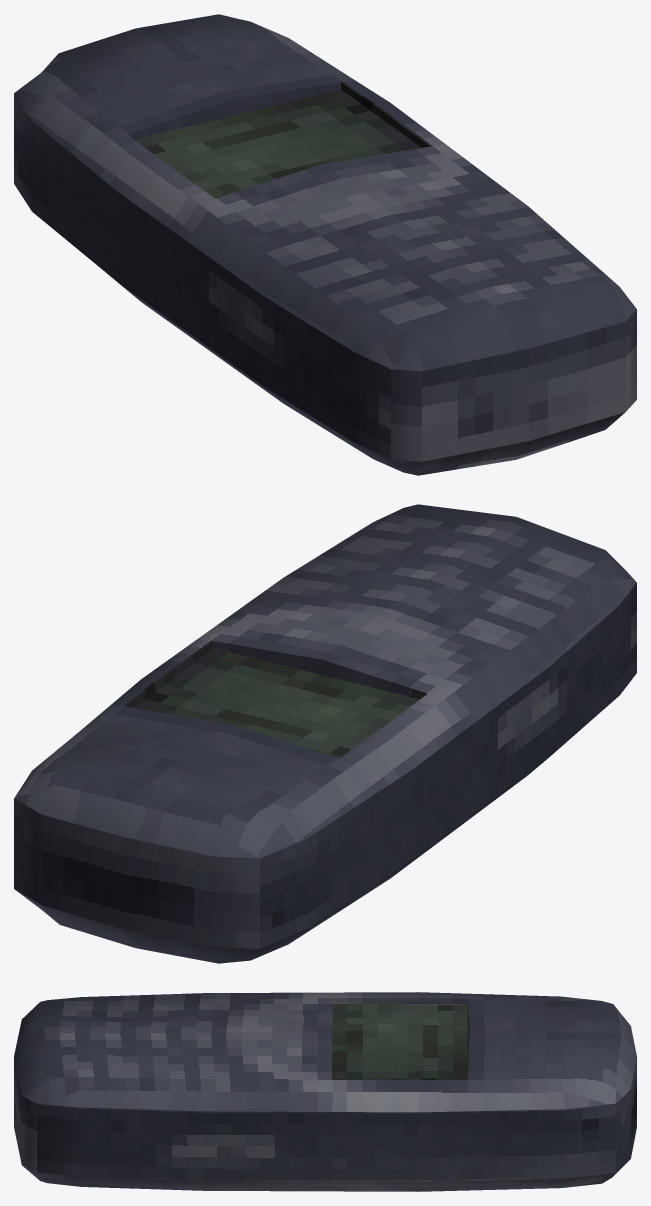
The model's file is cell_phone_2.glb.
3 renders of one model, top to bottom at view 1: azimuth 30°, elevation 25°; view 2: azimuth 150°, elevation 25°; view 3: azimuth 270°, elevation 25°, orthographic. The views are drawn at different scales.
Parts seen in each view (by area): view 1: cell_phone_2; view 2: cell_phone_2; view 3: cell_phone_2.
Boxes of the visible parts, x1=… form: cell_phone_2: x1=14, y1=14, x2=636, y2=475; cell_phone_2: x1=14, y1=504, x2=636, y2=963; cell_phone_2: x1=14, y1=992, x2=636, y2=1191.
Size of the model in its own units: 0.0877 by 0.0437 by 0.2106.
1 material, 1 textured.
